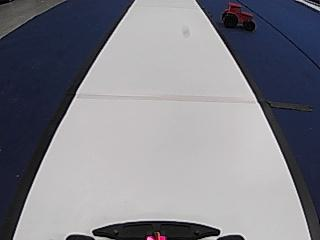Tracktor: (218, 0, 260, 34)
